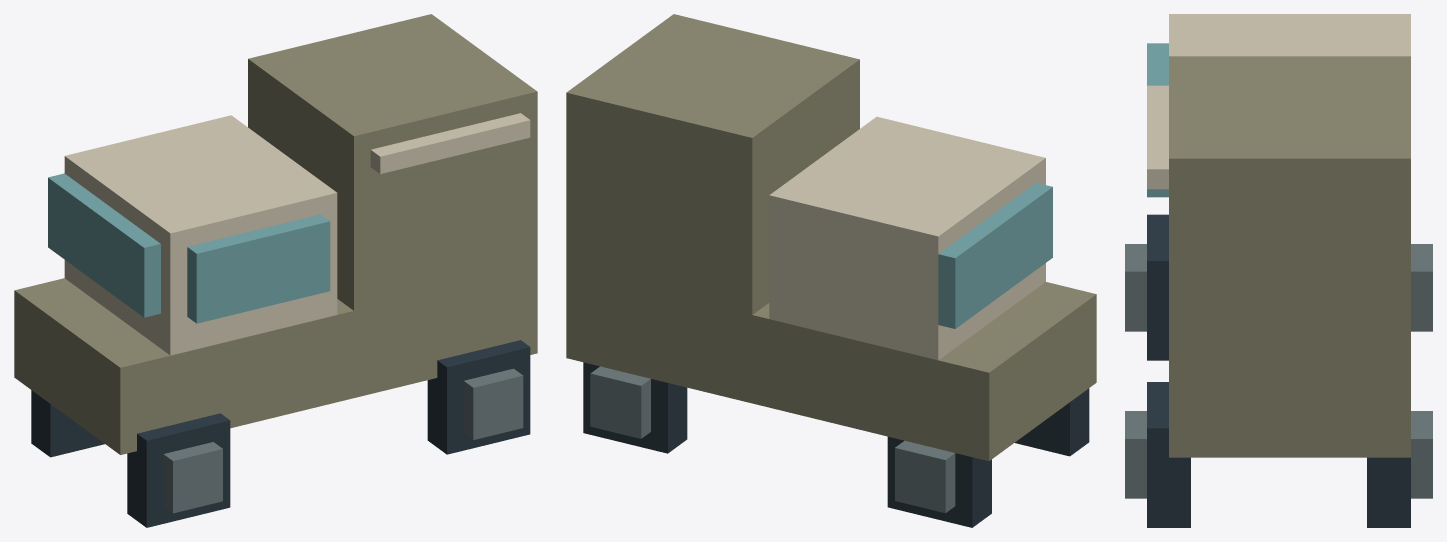
Rendered from civic-16.glb.
3 views of the same model, side by side, from view 1: azimuth 30°, elevation 25°; view 2: azimuth 150°, elevation 25°; view 3: azimuth 270°, elevation 25° (orthographic). The views are drawn at different scales.
Visible parts, largest first — view 1: Service truck; view 2: Service truck; view 3: Service truck.
Part boxes in pixels (x1,y1,x2,y2): Service truck: [14, 14, 537, 527]; Service truck: [566, 14, 1096, 527]; Service truck: [1125, 14, 1432, 527].
Bounding box in the file's own units: 2 × 1.52 × 1.12.
